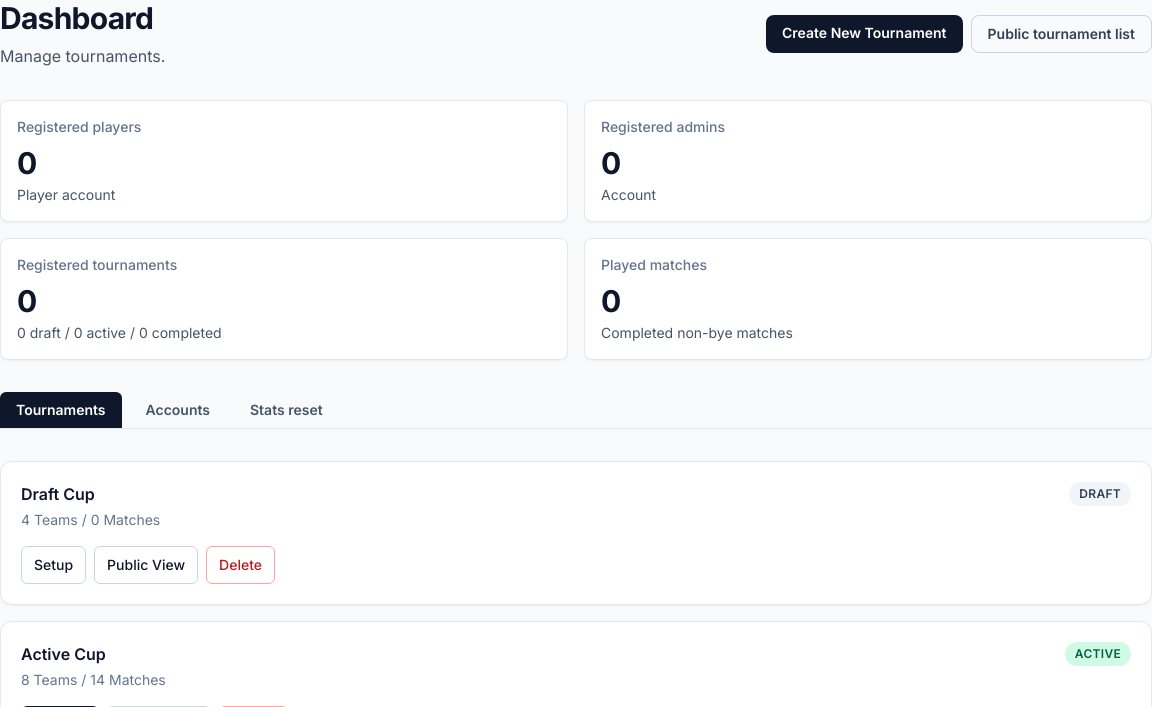
AdminDashboard › shows delete failures as toast notifications
What coordinates should you click on to do the following:
click the button with aria-label "Delete Draft Cup"
I would click on:
 (241, 565)
Its box is [206,546,275,584].
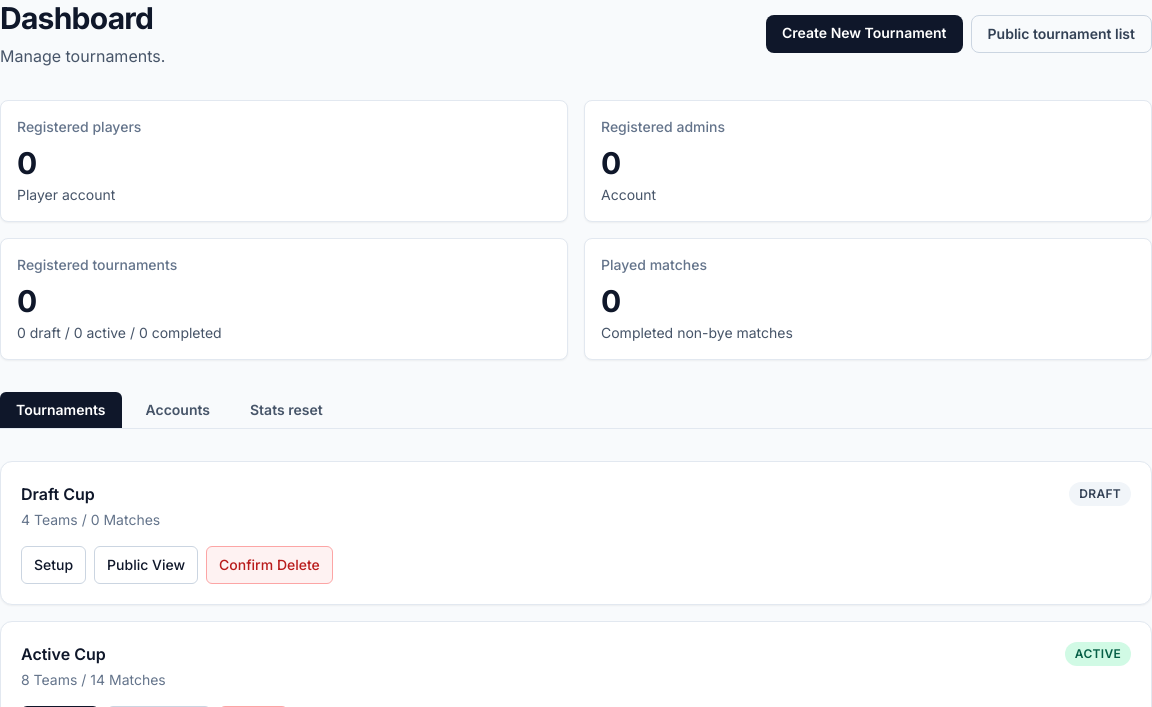
What coordinates should you click on to do the following:
click the button with aria-label "Confirm Delete Draft Cup"
I would click on:
 (269, 565)
Its box is [206,546,333,584].
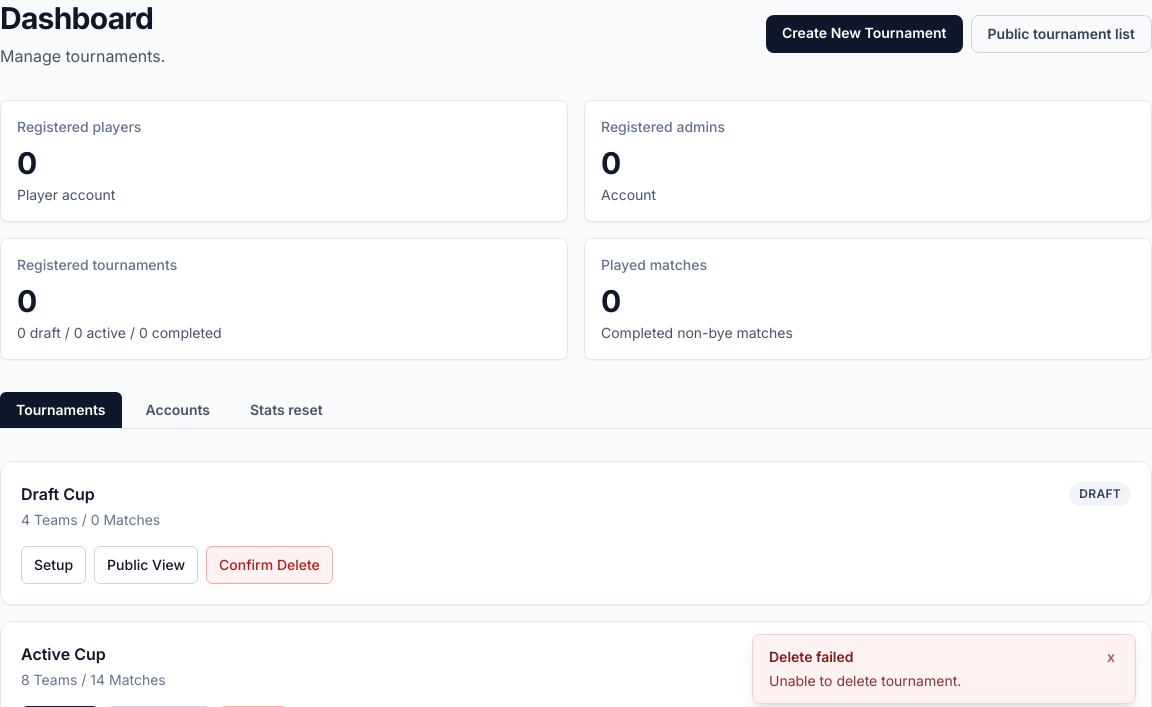
Check: the text "Unable to delete tournament." is shown, box [769,671,961,691]
